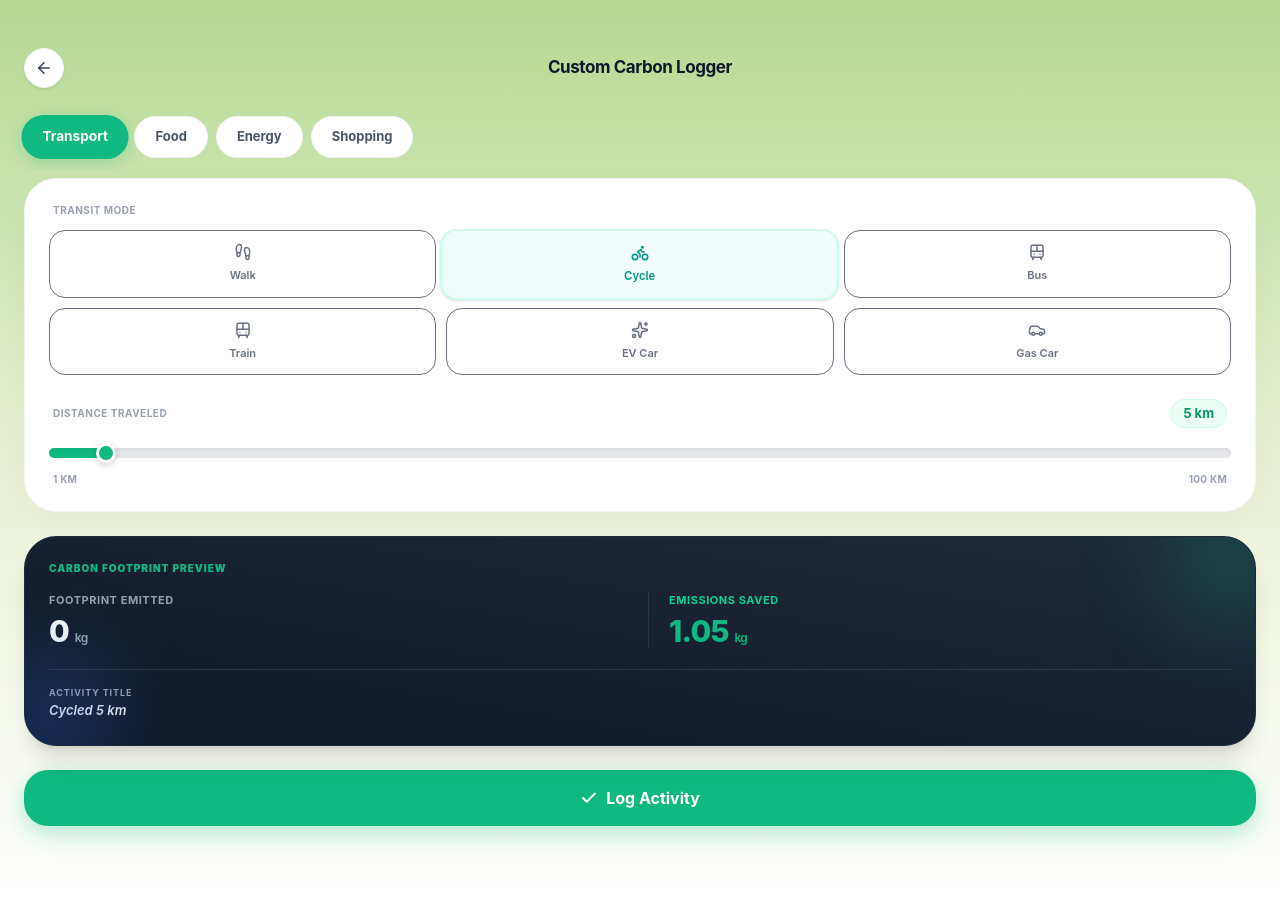
ActivityTracker Page Component › calculates carbon impact live preview updates on input adjustments
expect the text "1.05" is shown: met, box [669,612,729,648]
expect the text "0" is shown: met, box [49,612,69,648]
// Drag distance slider to 10 km
Step 1. Set the slider labelled "Distance traveled" to "10" → (163, 453), box [49,448,1231,458]
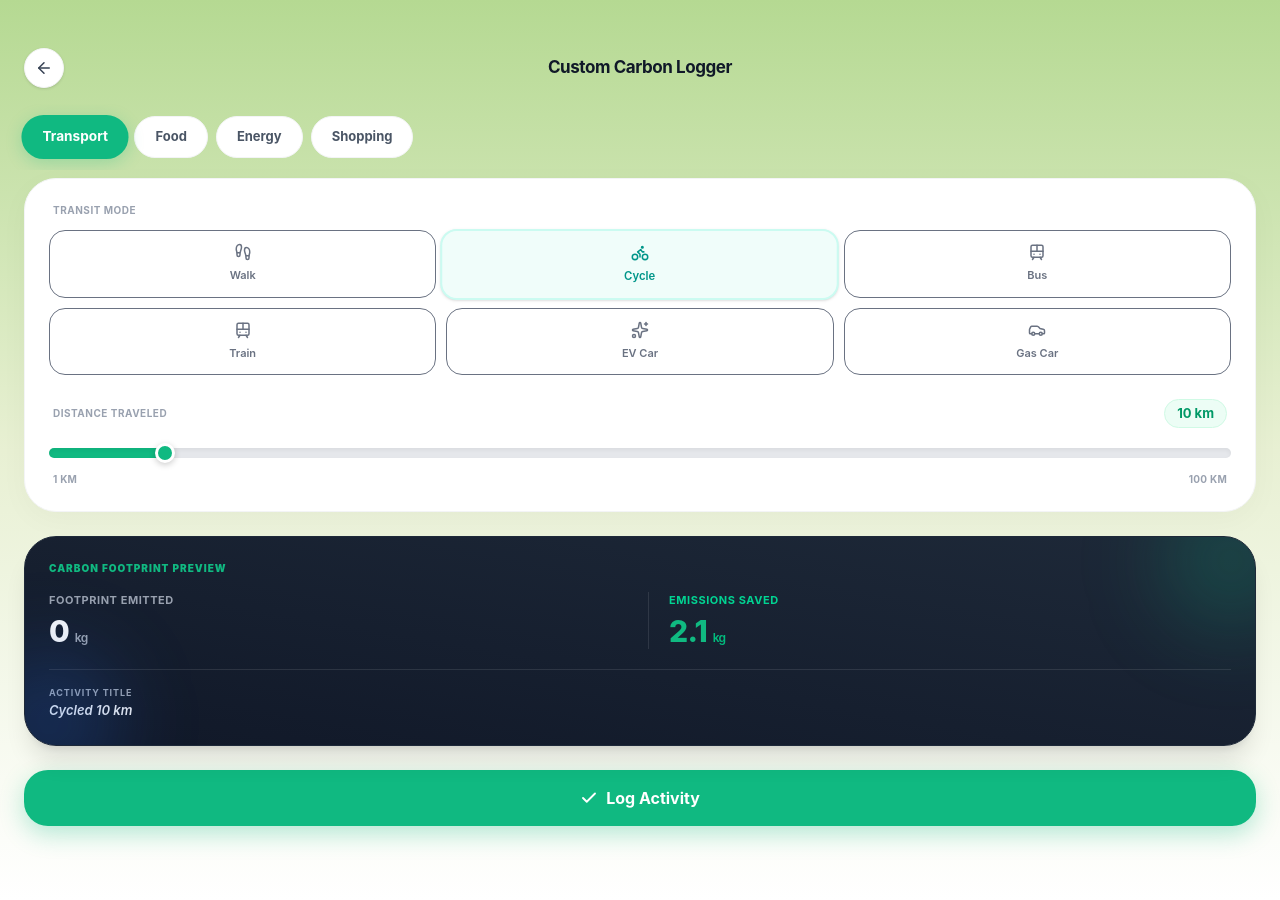
expect the text "2.1" is shown: met, box [669,612,707,648]
